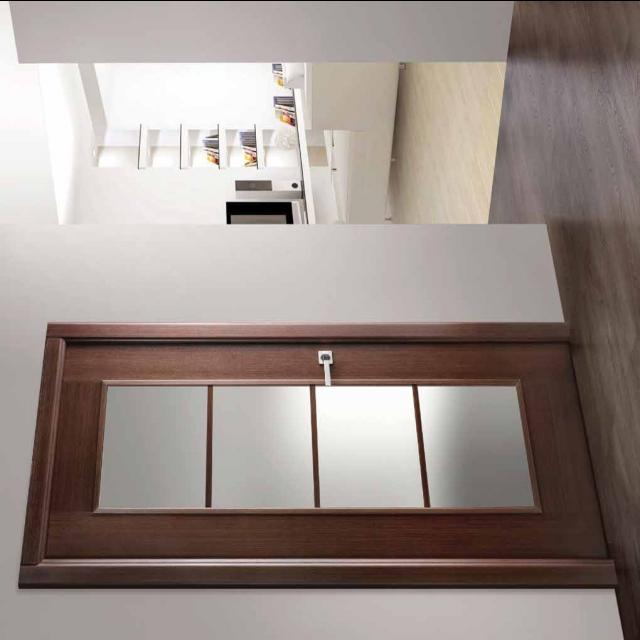close: (44, 324, 608, 588)
